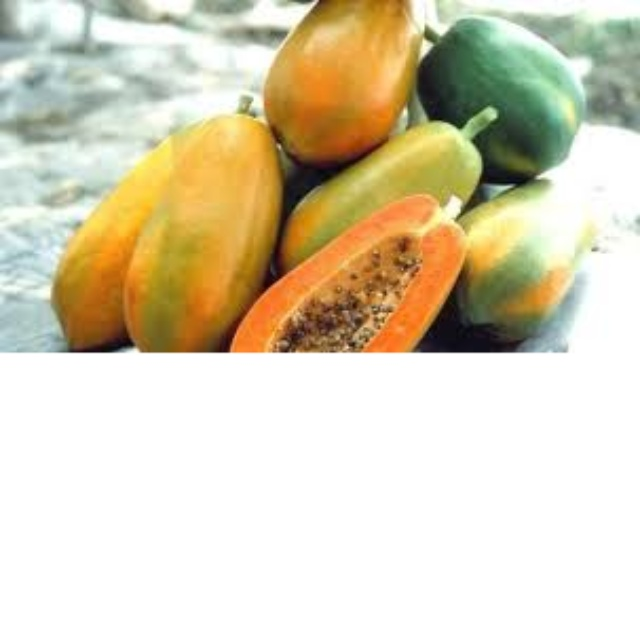du_du: (129, 112, 275, 347), (426, 10, 579, 189), (260, 215, 452, 354), (455, 183, 581, 338)
